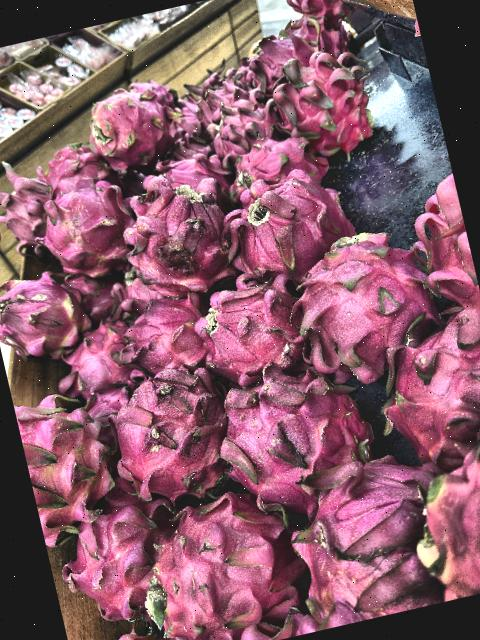buah-naga-matang: (274, 444, 450, 632), (120, 486, 315, 640), (208, 356, 379, 518), (283, 223, 440, 385), (100, 357, 240, 510), (11, 376, 119, 542), (216, 160, 357, 278), (261, 42, 396, 164), (366, 310, 480, 451), (111, 174, 236, 302), (187, 267, 308, 383), (60, 501, 174, 619), (400, 174, 480, 320), (32, 174, 142, 280), (412, 438, 480, 601), (0, 259, 99, 366), (107, 292, 221, 381), (77, 75, 182, 169), (217, 127, 333, 203), (54, 328, 130, 403), (0, 161, 57, 256), (29, 137, 110, 200), (237, 22, 320, 81), (202, 98, 266, 155), (176, 75, 248, 122), (279, 0, 349, 27)
